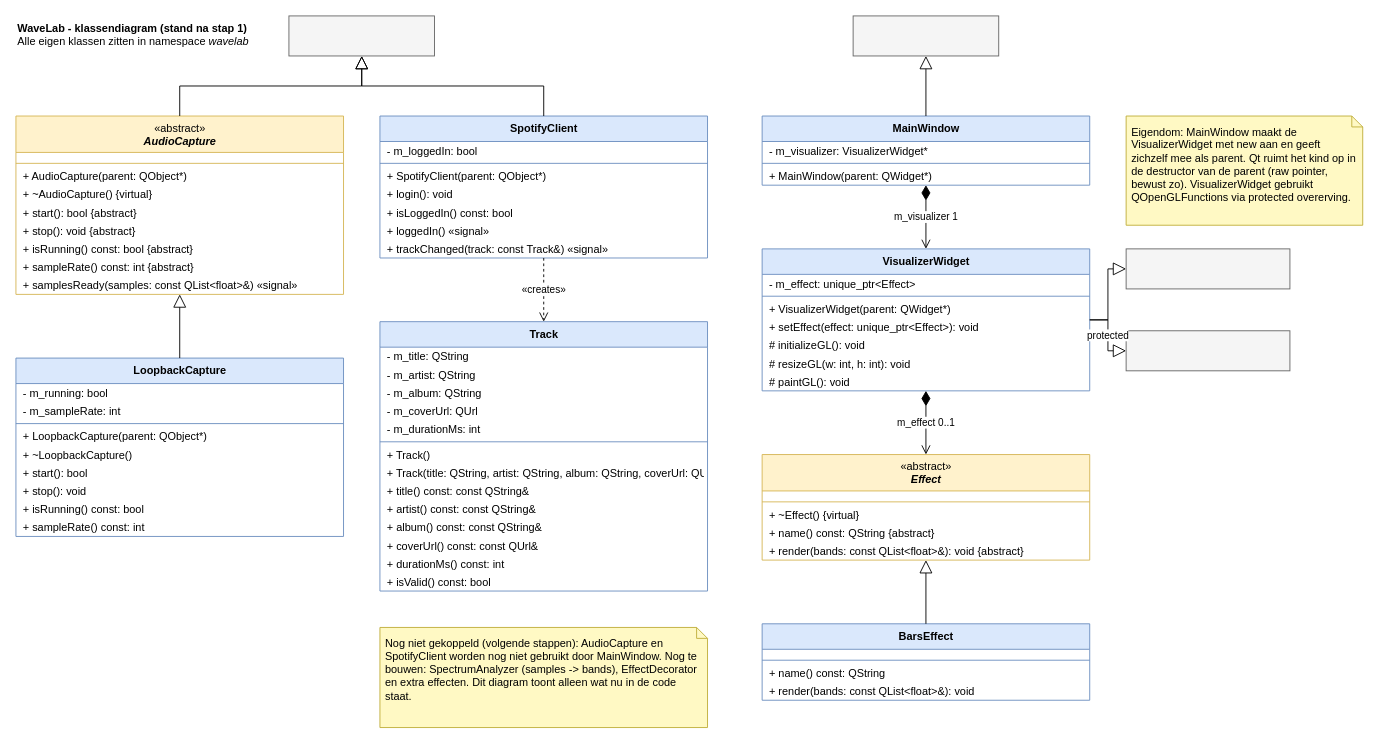
The diagram is 1379 pixels wide and 743 high, and some of its shapes have lost their labels. The shapes that lost their labels are listed below. From the top down, each one's centre as x and y in pixels, then its label:
At point (361, 35): "«Qt» QObject".
At point (925, 35): "«Qt» QMainWindow".
At point (1207, 268): "«Qt» QOpenGLWidget".
At point (1207, 350): "«Qt» QOpenGLFunctions".
